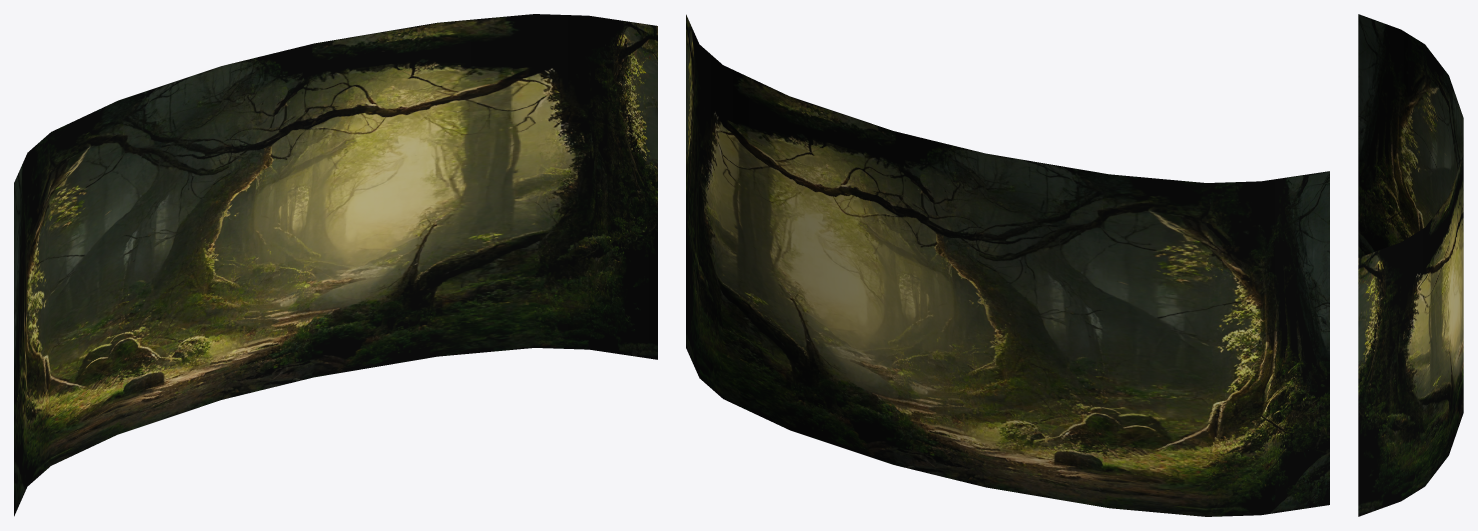
File: background.fbx
3 renders of one model, left to right at view 1: azimuth 30°, elevation 25°; view 2: azimuth 150°, elevation 25°; view 3: azimuth 270°, elevation 25°, orthographic. The views are drawn at different scales.
Visible parts, largest first — view 1: Plane; view 2: Plane; view 3: Plane.
Part boxes in pixels (left/top/right/bottom): Plane: left=14, top=14, right=657, bottom=516; Plane: left=686, top=14, right=1329, bottom=516; Plane: left=1358, top=14, right=1463, bottom=516.
Bounding box in the file's own units: 404 × 200 × 73.83.
